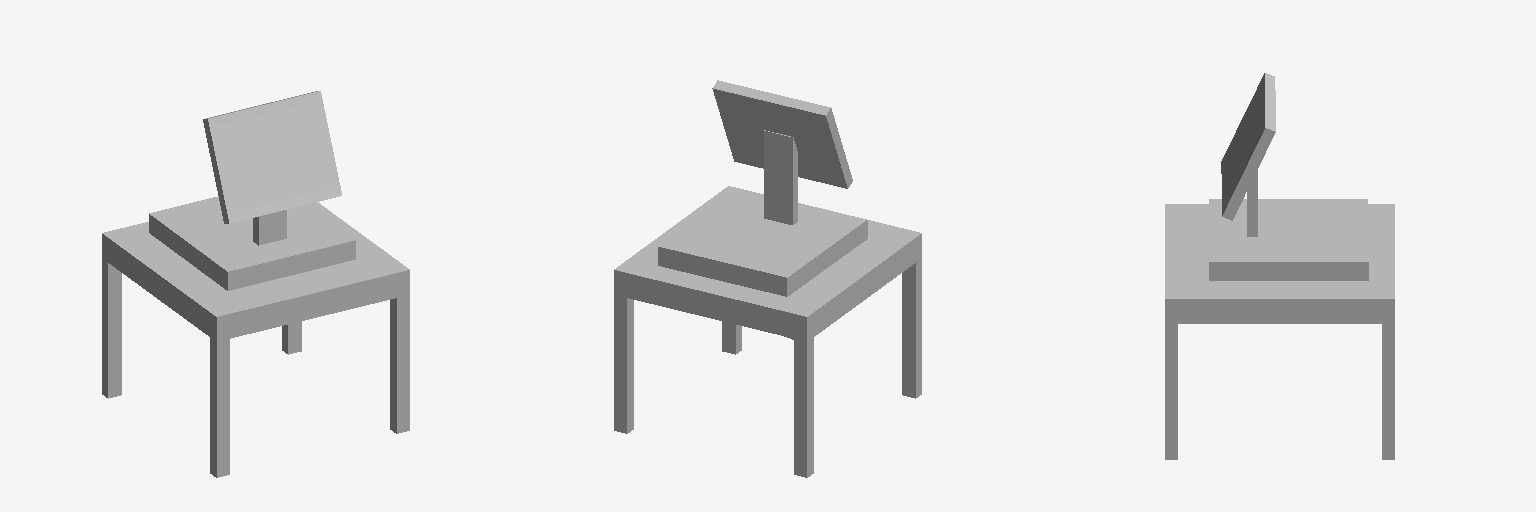
Rendered from office.obj.
3 views of the same model, side by side, from view 1: azimuth 30°, elevation 25°; view 2: azimuth 150°, elevation 25°; view 3: azimuth 270°, elevation 25° (orthographic).
Visible parts, largest first — view 1: office:pCube6; view 2: office:pCube6; view 3: office:pCube6.
Boxes of the visible parts, <box> form: office:pCube6: <box>102,91,409,477</box>; office:pCube6: <box>614,80,921,477</box>; office:pCube6: <box>1165,73,1394,459</box>.
Bounding box in the file's own units: 3.57 × 5.5 × 3.66.